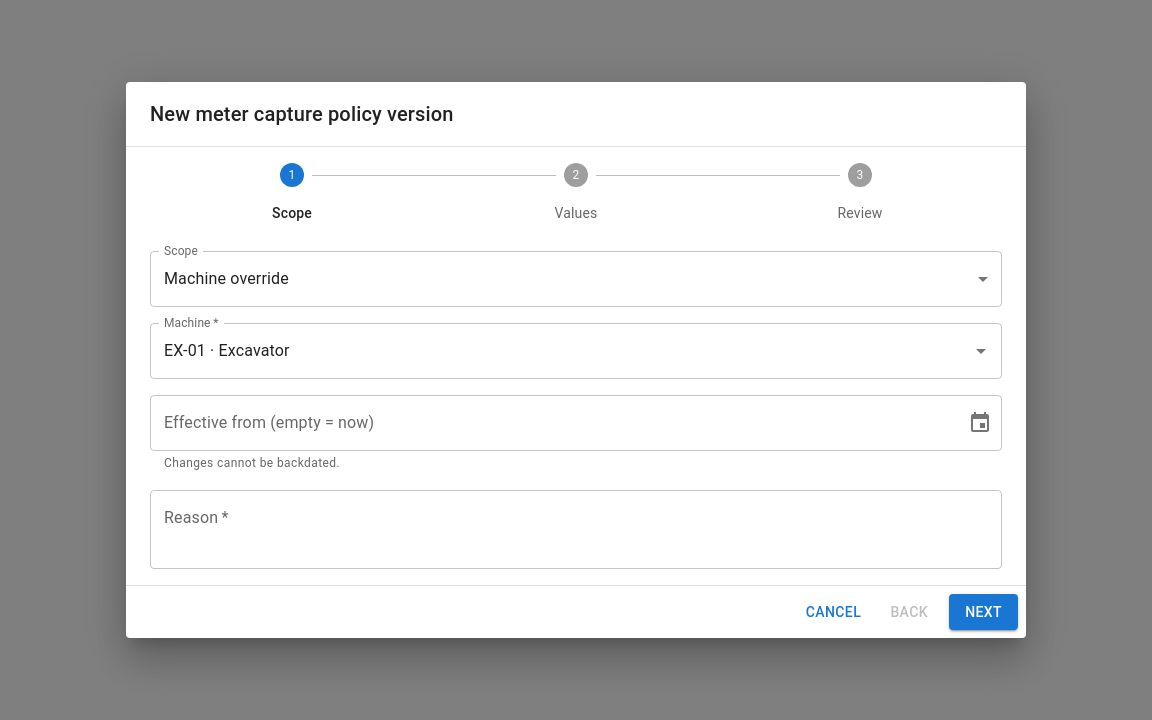
Test case: PolicyOverrideDialog · METER_CAPTURE / HIRE_BILLING › limits machine overrides to the six machine fields
Type "Manual closing at quarry" into the text box labelled "Reason *" at [576, 529], box [164,506,988,552]
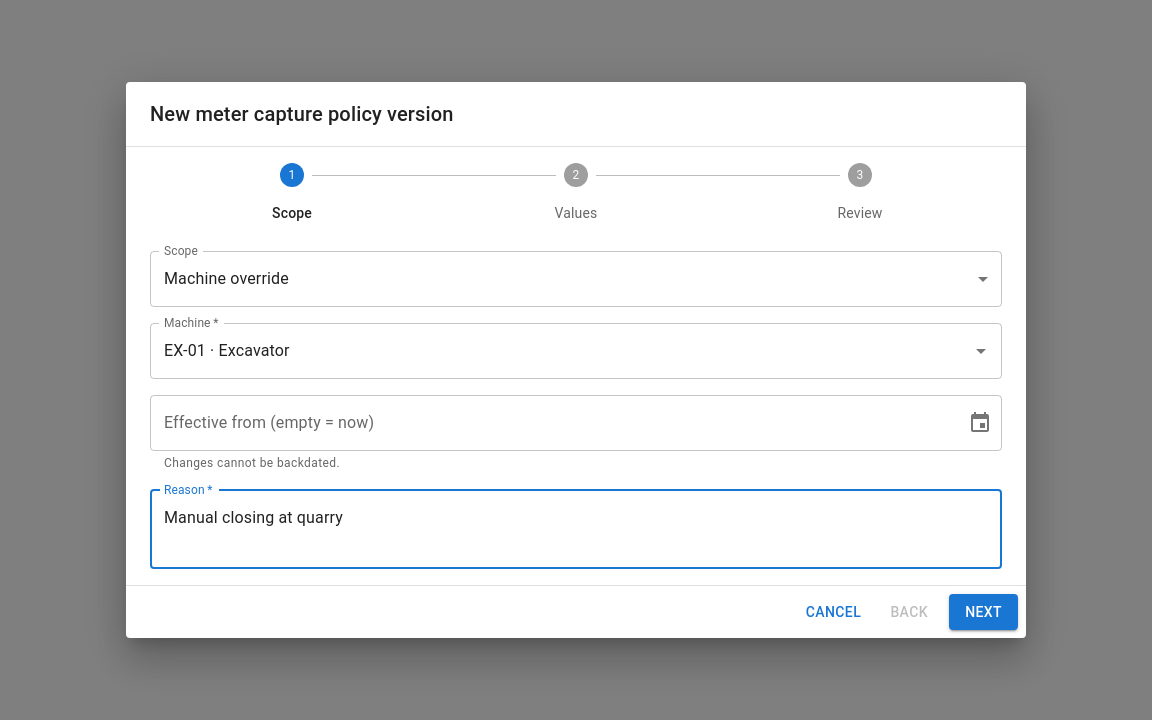
Click the button "Next" at [984, 612], box [949,594,1018,630]
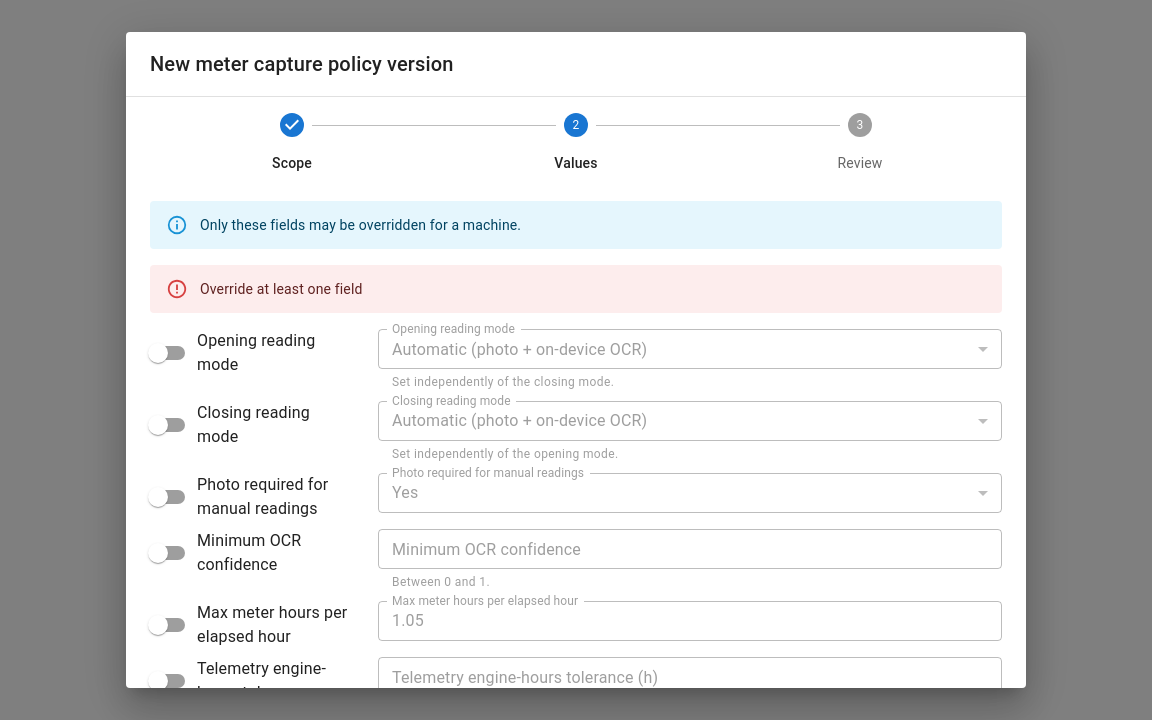
Now the switch named "Override Opening reading mode" is shown, box [148,331,316,374]
